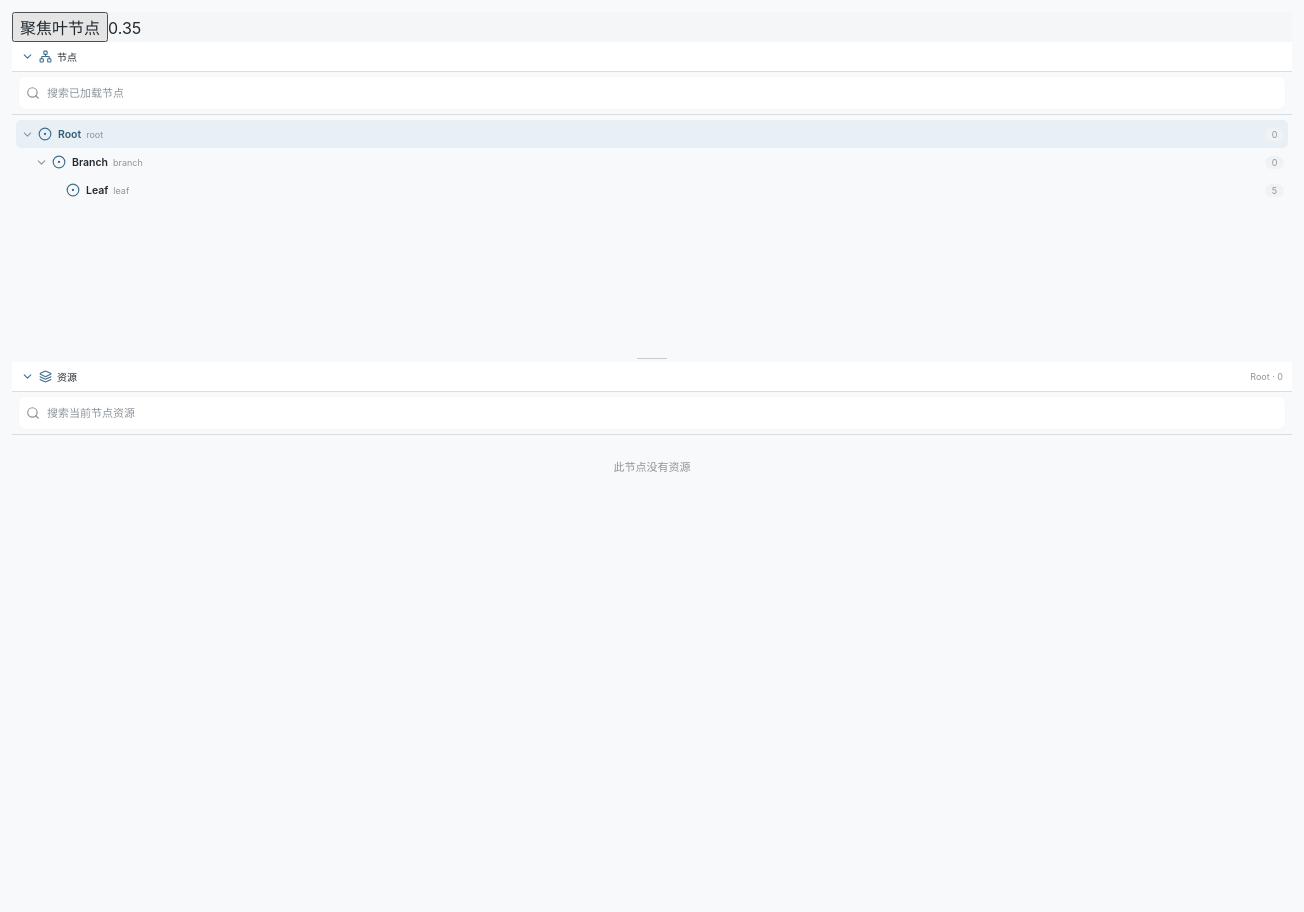
it: split Node and Resource explorer › collapses either Explorer section, keeps one section available, and restores the split ratio
The width and height of the screenshot is (1304, 912).
Click the button "节点" at (28, 56), box [12,42,1292,71]
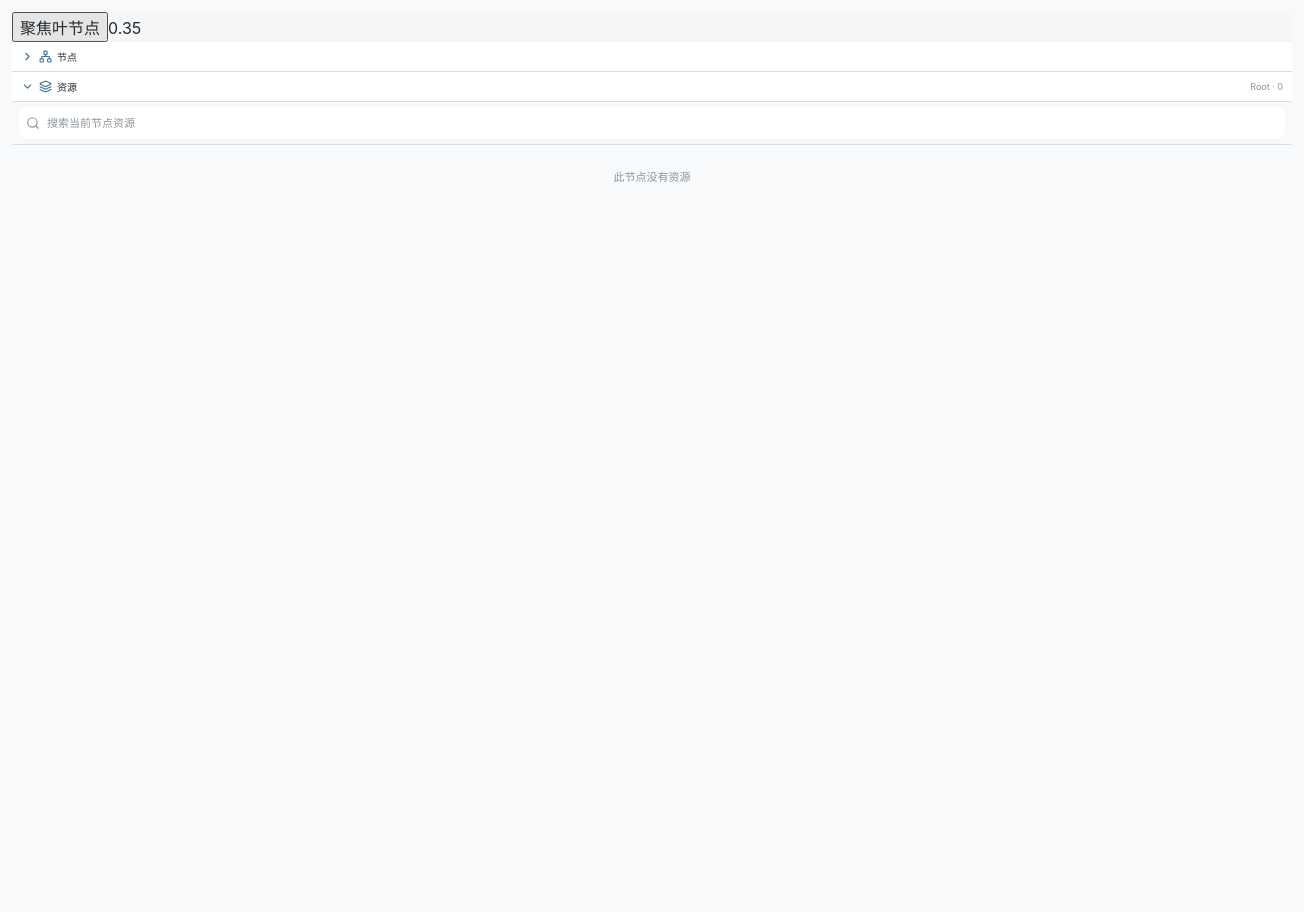
Expected: the element "资源" is shown, [614,170,690,184]
Click the button "资源 Root · 0" at (28, 86), box [12,72,1292,101]
(page scrolled)
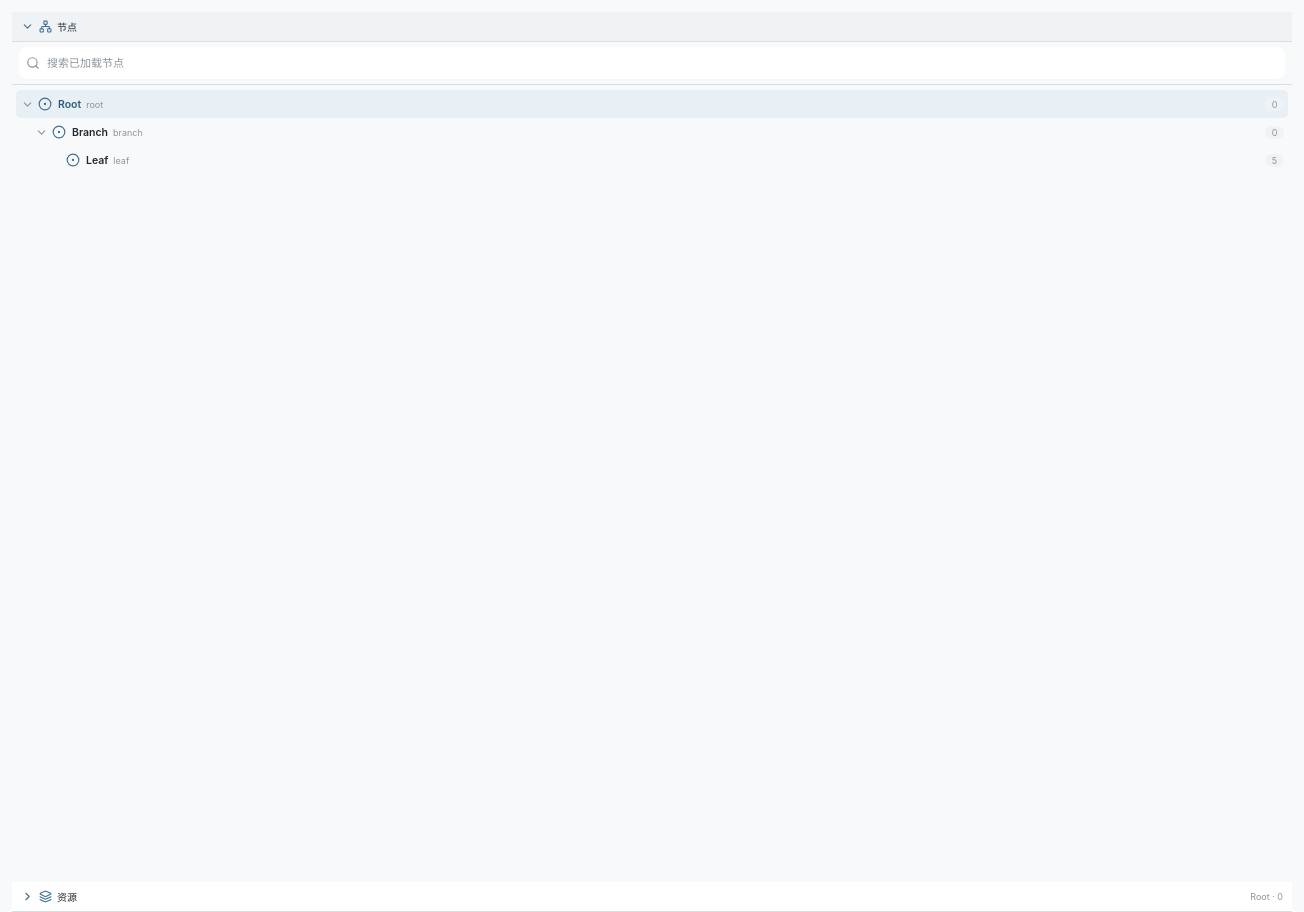
Expected: the element named "节点" is shown, [12,85,1292,182]
Click the button "资源 Root · 0" at (28, 896), box [12,882,1292,911]
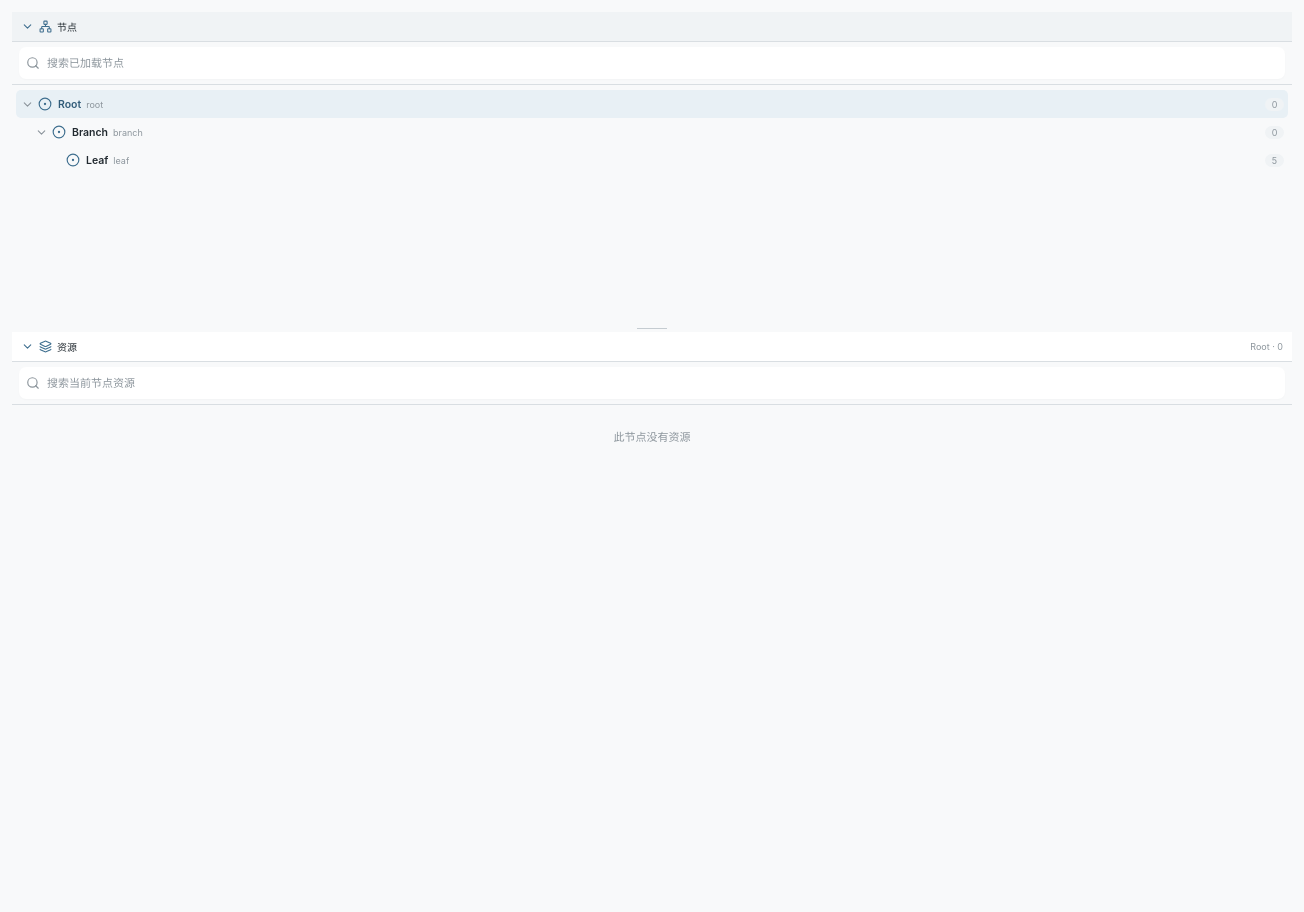
Now the element "资源" is shown, box [614,430,690,444]
